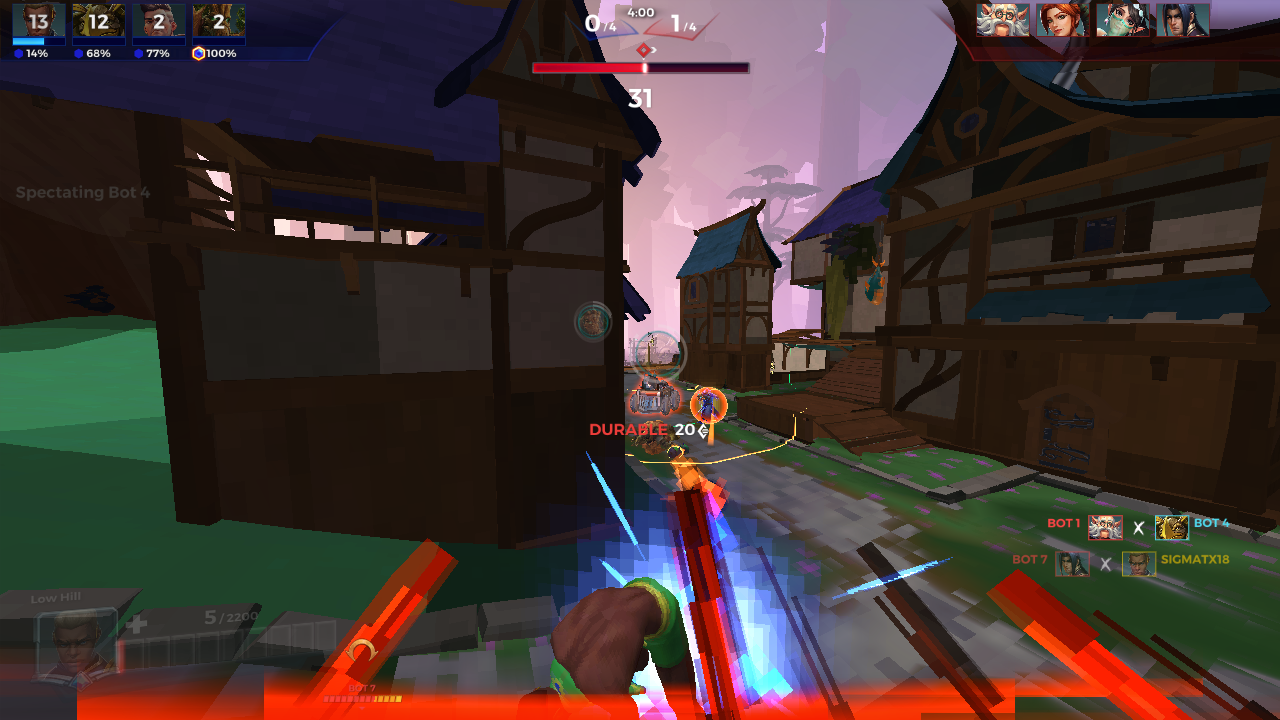model: (696, 389, 724, 422)
